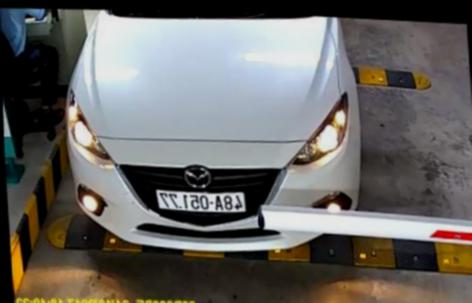License_Plate: (156, 184, 252, 217)
